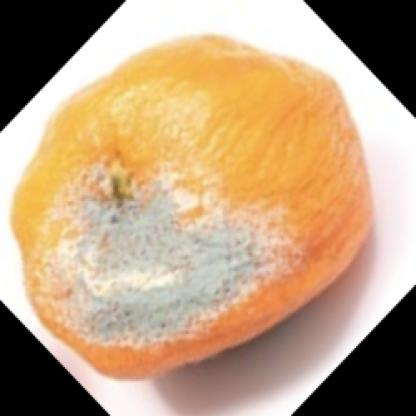rotten: (10, 35, 376, 380)
